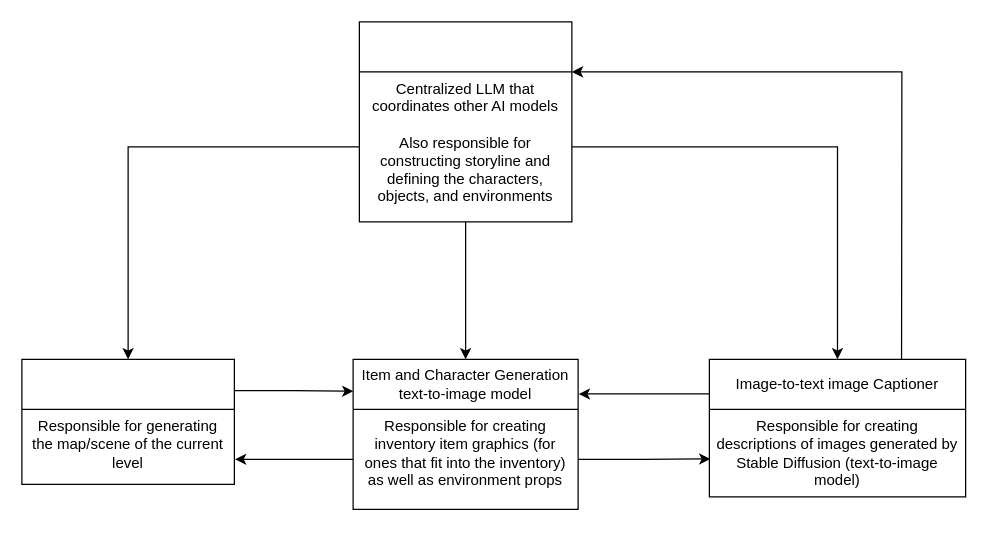
This 988x535 diagram has some shape labels left out. Here are the shapes that lost their labels. From the top down, the box of each, then its label:
(358, 21, 572, 222): Dungeon Master/ Mother AI
(21, 358, 234, 484): Map Generation text-to-image model
